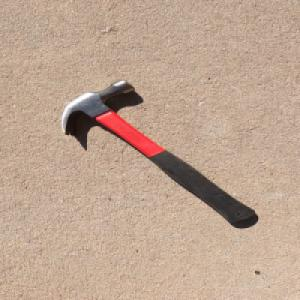Hammer: (57, 77, 258, 225)
